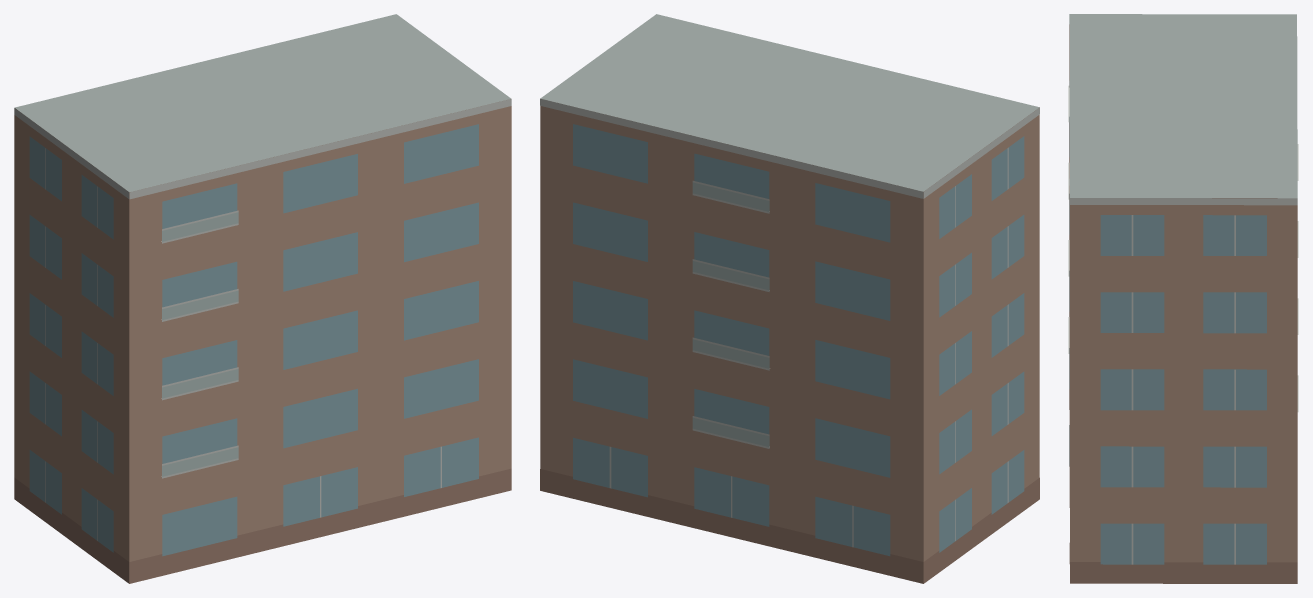
File: survey-upis-32707071.glb
3 renders of one model, left to right at view 1: azimuth 30°, elevation 25°; view 2: azimuth 150°, elevation 25°; view 3: azimuth 270°, elevation 25°, orthographic.
Visible parts, largest first — view 1: survey-upis-32707071.tmp; view 2: survey-upis-32707071.tmp; view 3: survey-upis-32707071.tmp.
Boxes of the visible parts, x1=… form: survey-upis-32707071.tmp: x1=14, y1=14, x2=511, y2=583; survey-upis-32707071.tmp: x1=540, y1=14, x2=1039, y2=583; survey-upis-32707071.tmp: x1=1068, y1=14, x2=1298, y2=583.
Size of the model in its own units: 13.63 by 13.3 by 7.2.
